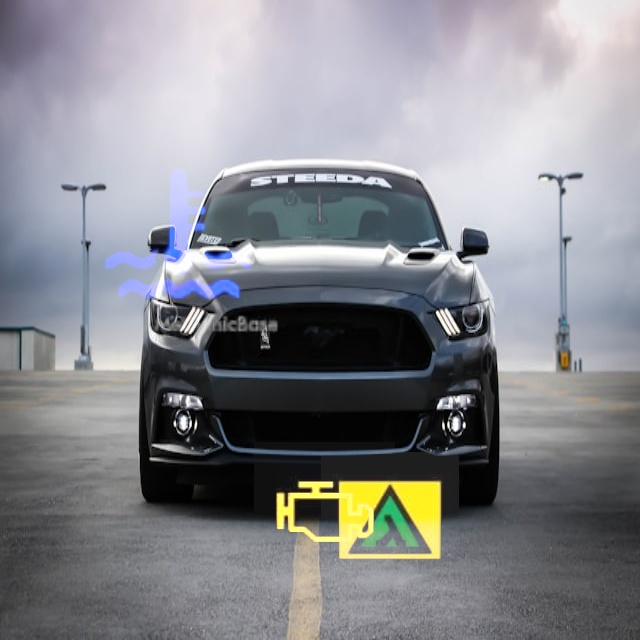symbol: (70, 126, 286, 342), (254, 442, 395, 583), (321, 452, 459, 590)
